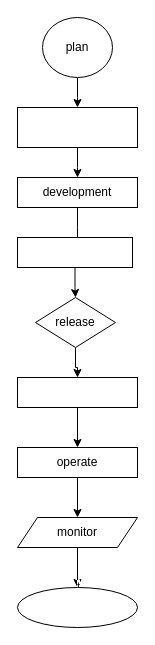
This 155x645 diagram has some shape labels left out. Here are the shapes that lost their labels. From the top down, the centre of each, then its label:
At (77,127): "build".
At (74,252): "test".
At (77,392): "deploy".
